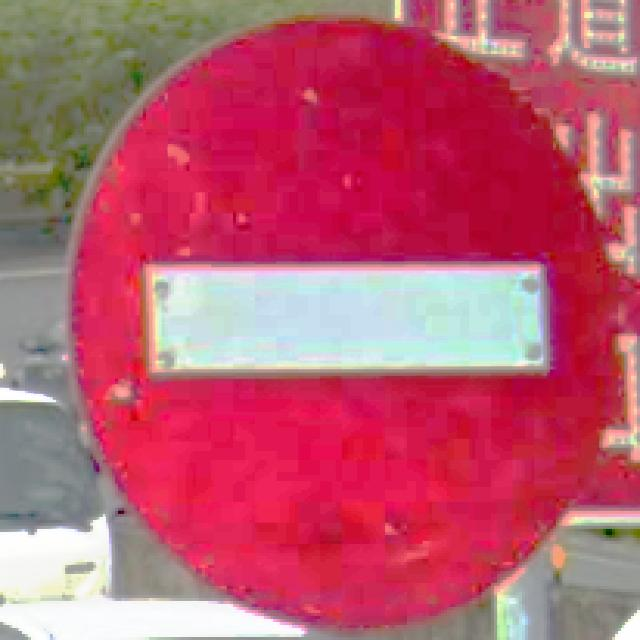noentry: (69, 17, 615, 629)
